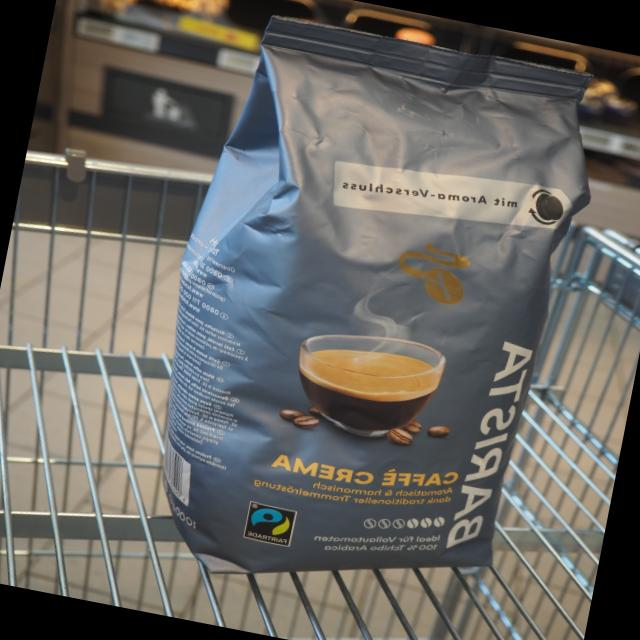Barista CC: (97, 0, 626, 640)
